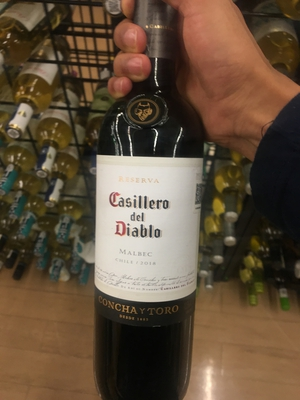casillero del diablo malbec: (80, 36, 226, 400)
